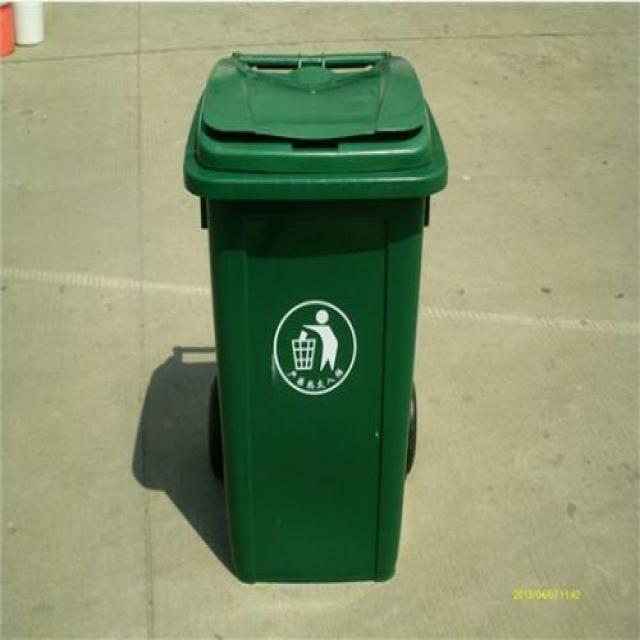garbage_bin: (182, 49, 446, 582)
